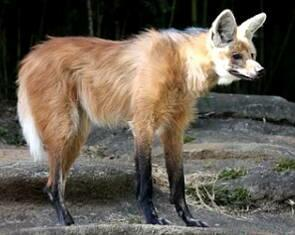LoboGuara: (17, 8, 270, 228)
